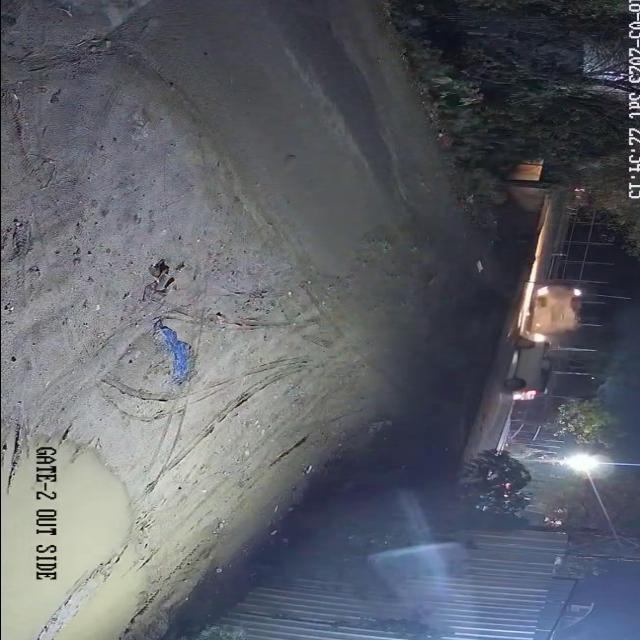accident: (498, 279, 586, 405)
